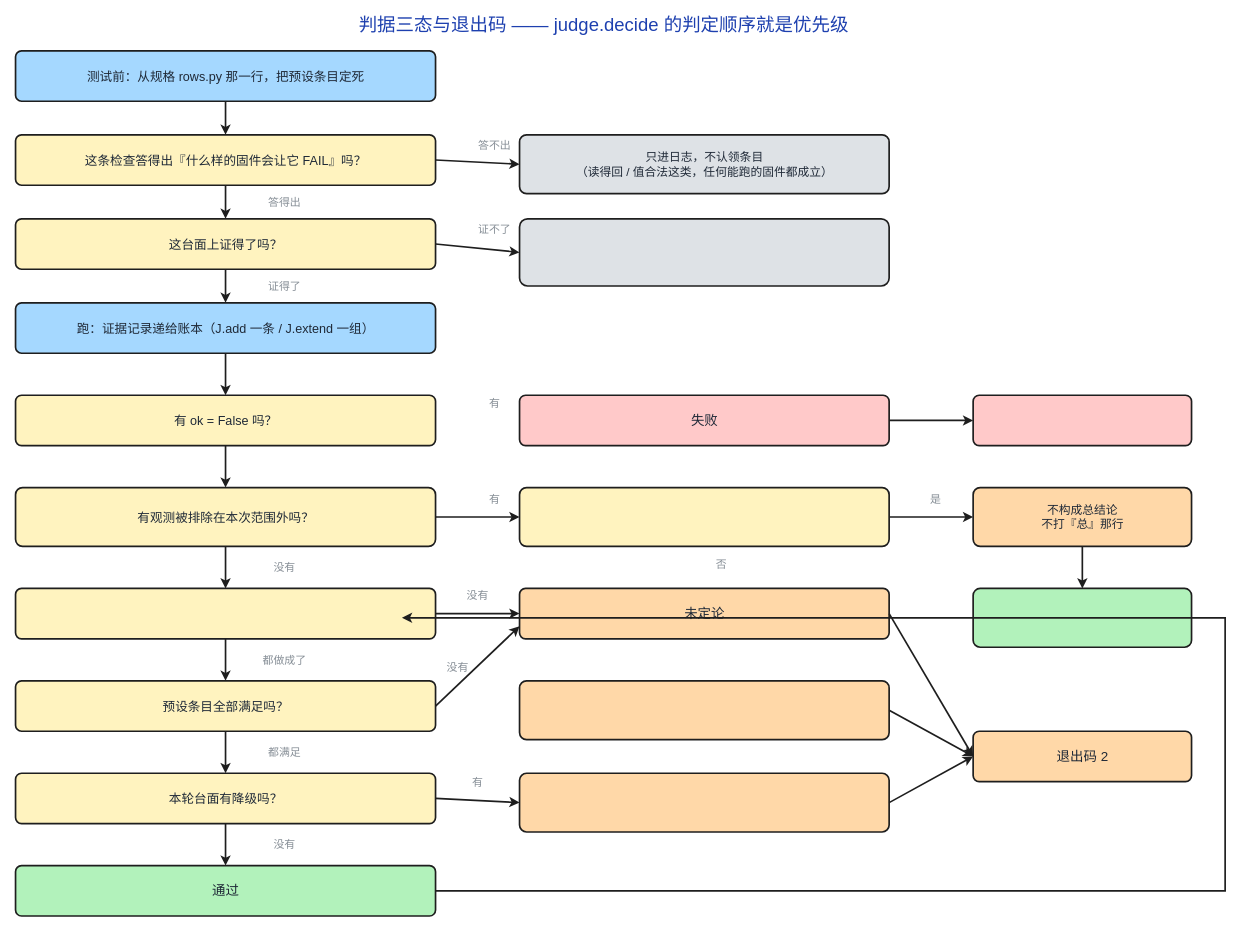
Image size: 1247x932. Some labels were removed from this diagram. The centre of each missing label's shape, as x and y in pixels:
"在 criteria 里声明 unprovable + 为什么 + 要证须做什么 （『忘了测』与『知道证不了』因此分得开）" goes at pixel 704 252.
"打算做的观测都做成了吗？" goes at pixel 225 613.
"未定论 未证的是哪几条，逐条报" goes at pixel 704 710.
"未定论 证据支撑不了『通过』" goes at pixel 704 802.
"本次范围内的观测都做成了吗？" goes at pixel 704 516.
"退出码 0 —— 只反映本次范围" goes at pixel 1082 617.
"退出码 1" goes at pixel 1082 420.
